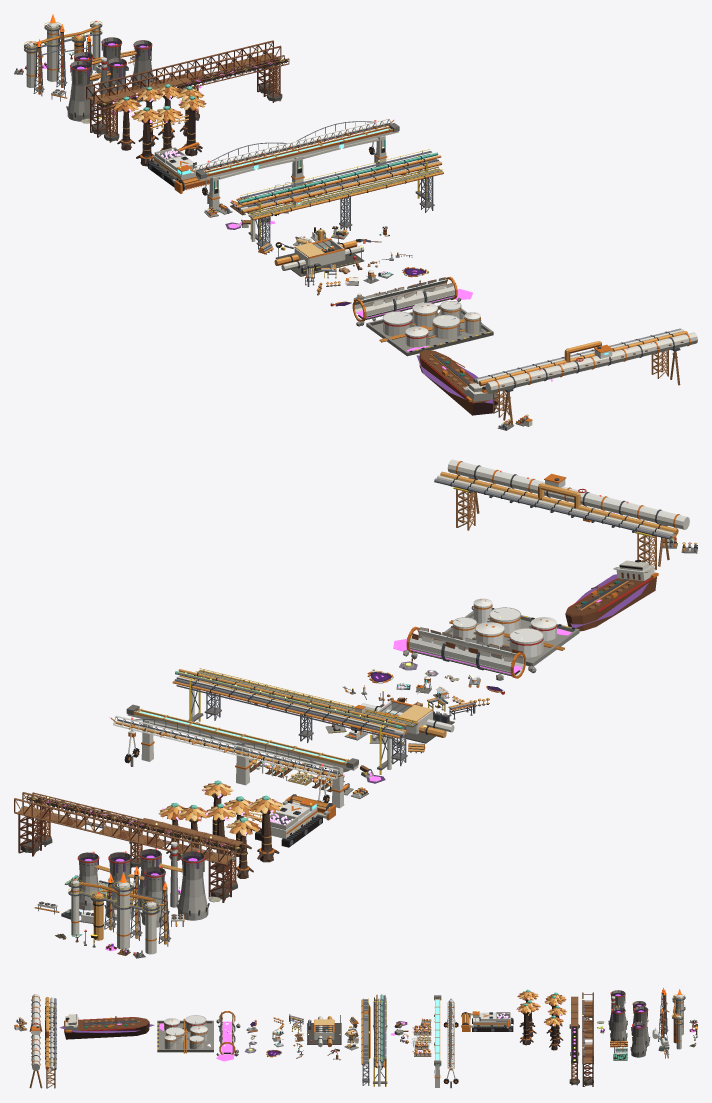
The model's file is set_cinder.glb.
The picture shows the model from 3 angles, top to bottom: view 1: azimuth 30°, elevation 25°; view 2: azimuth 150°, elevation 25°; view 3: azimuth 270°, elevation 25°; orthographic projection. The views are drawn at different scales.
Parts seen in each view (by area): view 1: cinder_pipe_rack_0.001, cinder_tank_farm_0.001, cinder_gantry_0.001, cinder_irrigator_1.001, cinder_trestle_1.001, cinder_pipe_rack_1.001, cinder_gantry_1.001, cinder_split_pipe_0.001, cinder_tanker_0.001, cinder_trestle_0.001, cinder_grove_gate_1.001, cinder_pump_station_0.001 (+7 smaller); view 2: cinder_gantry_0.001, cinder_pipe_rack_0.001, cinder_trestle_0.001, cinder_tank_farm_0.001, cinder_irrigator_1.001, cinder_trestle_1.001, cinder_split_pipe_0.001, cinder_tanker_0.001, cinder_irrigator_0.001, cinder_columns_0.001, cinder_cooling_towers_1.001, cinder_cooling_towers_0.001 (+7 smaller); view 3: cinder_tank_farm_0.001, cinder_tanker_0.001, cinder_pipe_rack_0.001, cinder_gantry_0.001, cinder_trestle_0.001, cinder_pump_station_0.001, cinder_harvester_0.001, cinder_cooling_towers_0.001, cinder_cooling_towers_1.001, cinder_trestle_1.001, cinder_pipe_rack_1.001, cinder_split_pipe_0.001 (+9 smaller).
Part boxes in pixels (left/top/right/bottom): cinder_pipe_rack_0.001: left=236, top=149, right=441, bottom=241; cinder_tank_farm_0.001: left=366, top=300, right=493, bottom=356; cinder_gantry_0.001: left=86, top=40, right=281, bottom=137; cinder_irrigator_1.001: left=196, top=123, right=399, bottom=212; cinder_trestle_1.001: left=485, top=332, right=697, bottom=424; cinder_pipe_rack_1.001: left=248, top=166, right=443, bottom=249; cinder_gantry_1.001: left=97, top=55, right=289, bottom=142; cinder_split_pipe_0.001: left=352, top=276, right=472, bottom=326; cinder_tanker_0.001: left=416, top=350, right=500, bottom=415; cinder_trestle_0.001: left=473, top=328, right=687, bottom=417; cinder_grove_gate_1.001: left=131, top=96, right=206, bottom=166; cinder_pump_station_0.001: left=274, top=229, right=364, bottom=276; cinder_gantry_0.001: left=14, top=792, right=236, bottom=902; cinder_pipe_rack_0.001: left=172, top=669, right=407, bottom=774; cinder_trestle_0.001: left=434, top=471, right=678, bottom=570; cinder_tank_farm_0.001: left=441, top=598, right=579, bottom=666; cinder_irrigator_1.001: left=126, top=704, right=358, bottom=808; cinder_trestle_1.001: left=447, top=459, right=689, bottom=566; cinder_split_pipe_0.001: left=393, top=626, right=536, bottom=680; cinder_tanker_0.001: left=565, top=559, right=658, bottom=631; cinder_irrigator_0.001: left=109, top=715, right=344, bottom=802; cinder_columns_0.001: left=68, top=879, right=159, bottom=954; cinder_cooling_towers_1.001: left=139, top=841, right=209, bottom=920; cinder_cooling_towers_0.001: left=77, top=851, right=169, bottom=927; cinder_tank_farm_0.001: left=157, top=1015, right=213, bottom=1053; cinder_tanker_0.001: left=60, top=1014, right=154, bottom=1039; cinder_pipe_rack_0.001: left=373, top=994, right=387, bottom=1086; cinder_gantry_0.001: left=582, top=992, right=593, bottom=1086; cinder_trestle_0.001: left=45, top=997, right=56, bottom=1088; cinder_pump_station_0.001: left=307, top=1013, right=341, bottom=1047; cinder_harvester_0.001: left=462, top=1011, right=513, bottom=1031; cinder_cooling_towers_0.001: left=630, top=1001, right=650, bottom=1057; cinder_cooling_towers_1.001: left=608, top=990, right=627, bottom=1040; cinder_trestle_1.001: left=29, top=994, right=42, bottom=1088; cinder_pipe_rack_1.001: left=361, top=998, right=370, bottom=1085; cinder_split_pipe_0.001: left=216, top=1011, right=240, bottom=1061.
Bounding box in the file's own units: 104 × 35.75 × 430.
